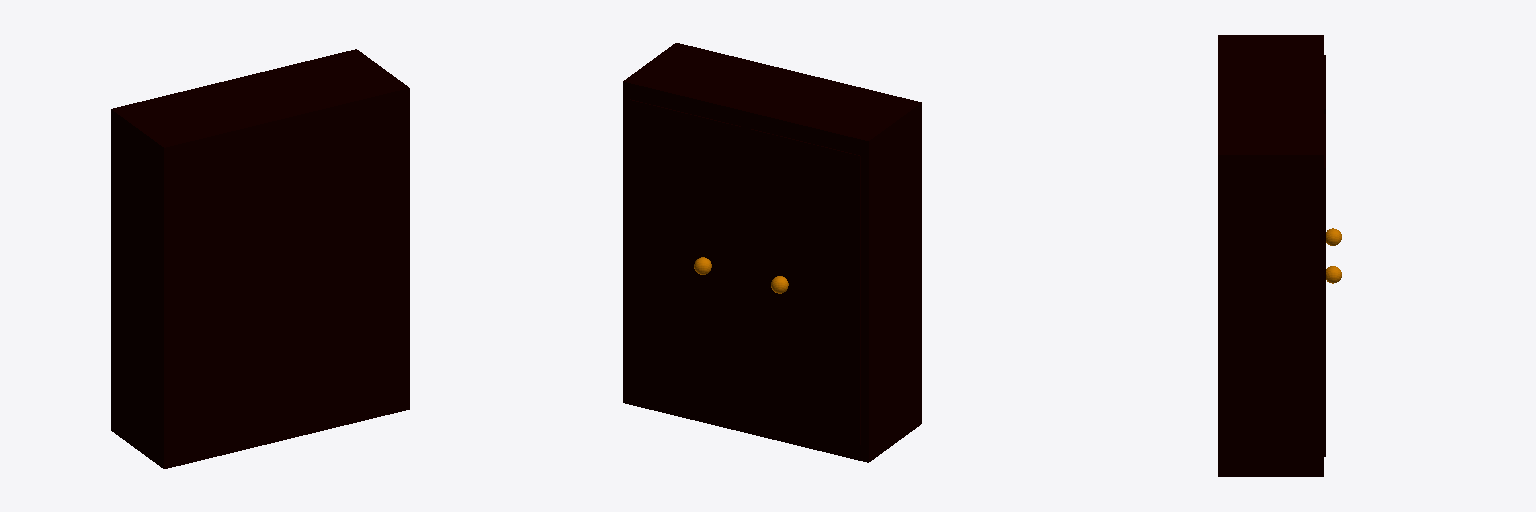
File: wardrobe.obj
3 renders of one model, left to right at view 1: azimuth 30°, elevation 25°; view 2: azimuth 150°, elevation 25°; view 3: azimuth 270°, elevation 25°, orthographic.
Parts seen in each view (by area): view 1: Cube; view 2: Cube, Cube.001_Cube.002, Cube.002_Cube.003; view 3: Cube, Cube.001_Cube.002.
Part boxes in pixels (x1,y1,x2,y2): Cube: (111,49,409,468); Cube: (623,43,921,462); Cube.001_Cube.002: (630,99,740,415); Cube.002_Cube.003: (750,129,860,444); Cube: (1218,35,1323,476); Cube.001_Cube.002: (1324,114,1325,456).
Bounding box in the file's own units: 16 × 20 × 7.